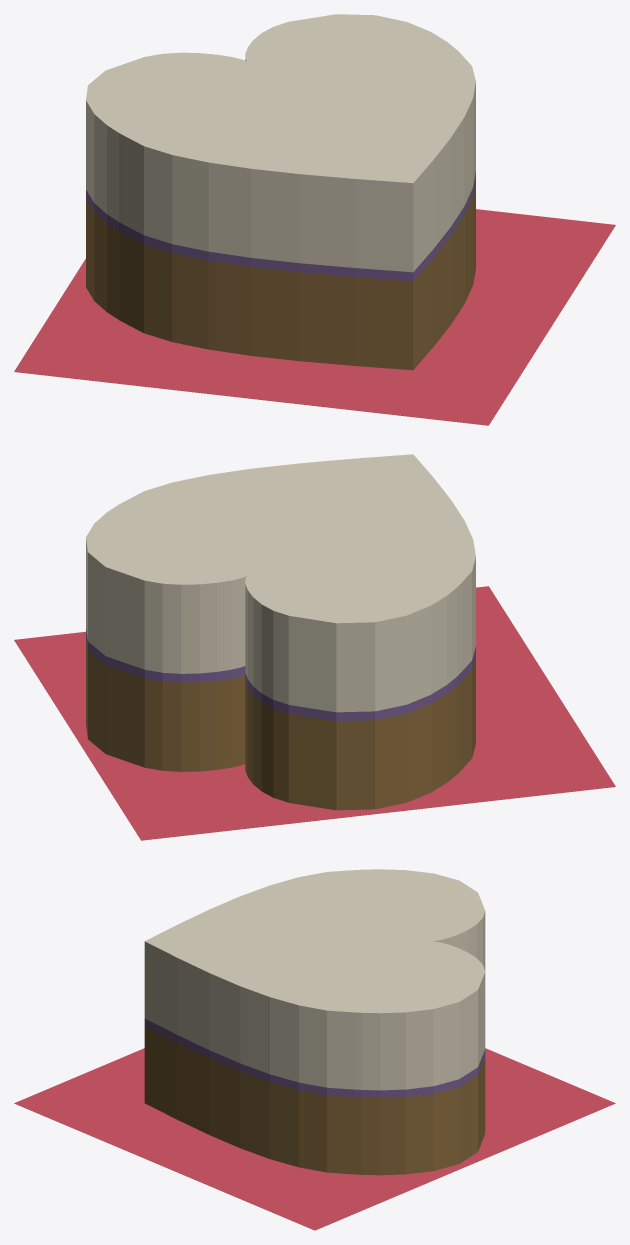
The model's file is CUV.glb.
3 views of the same model, one above another, from view 1: azimuth 30°, elevation 25°; view 2: azimuth 150°, elevation 25°; view 3: azimuth 270°, elevation 25° (orthographic). The views are drawn at different scales.
Parts seen in each view (by area): view 1: Mesh_Mesh_head_geo.001_lambert2SG.001; view 2: Mesh_Mesh_head_geo.001_lambert2SG.001; view 3: Mesh_Mesh_head_geo.001_lambert2SG.001.
Part boxes in pixels (left/top/right/bottom): Mesh_Mesh_head_geo.001_lambert2SG.001: left=14, top=14, right=615, bottom=425; Mesh_Mesh_head_geo.001_lambert2SG.001: left=14, top=454, right=615, bottom=840; Mesh_Mesh_head_geo.001_lambert2SG.001: left=14, top=869, right=615, bottom=1230.
Bounding box in the file's own units: 0.0354 × 0.0105 × 0.0354.
